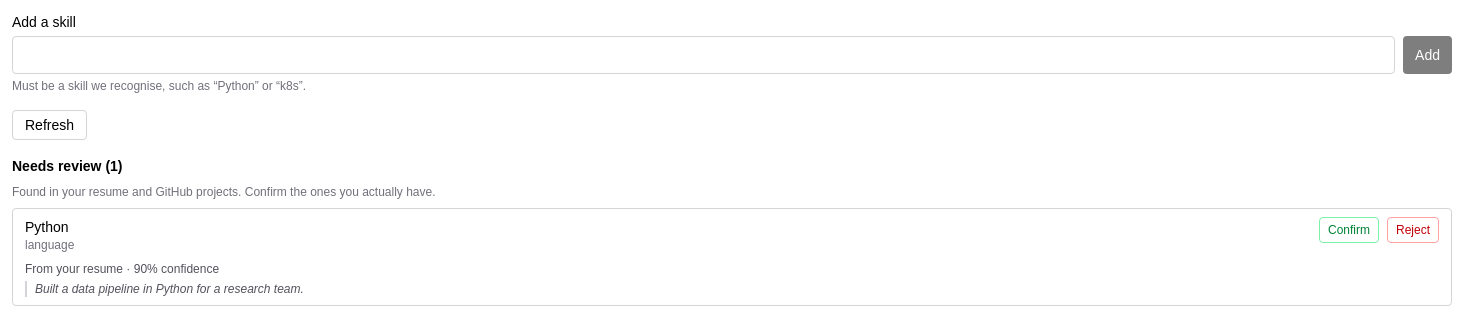
Test: skills section › confirms a suggested skill
Expected: the text "Python" is shown, [25,217,74,237]
Click the button "Confirm".
click(1349, 230)  # box [1319,217,1379,243]
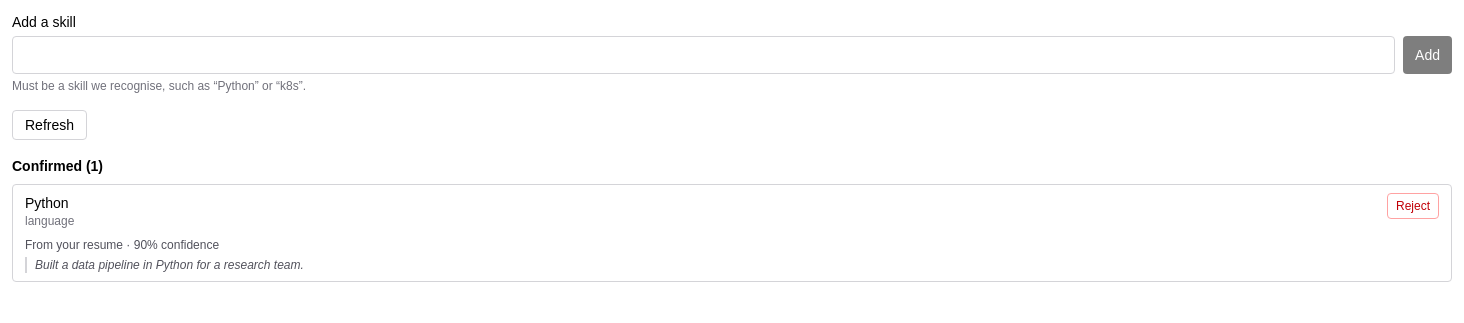
Now the heading "Confirmed (1)" is shown, box [12,158,103,174]
